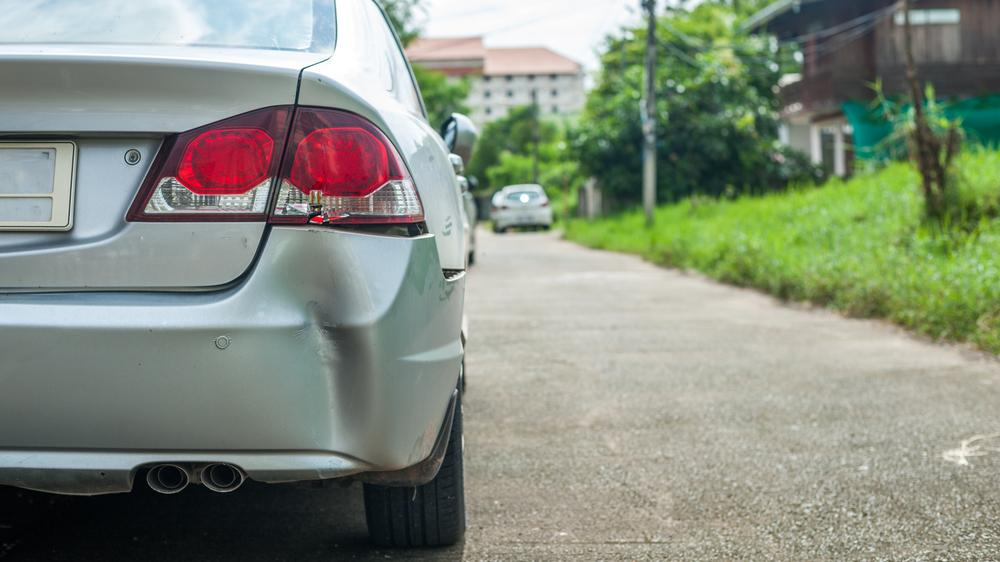dent: (251, 230, 383, 450)
lamp broken: (267, 106, 426, 226)
